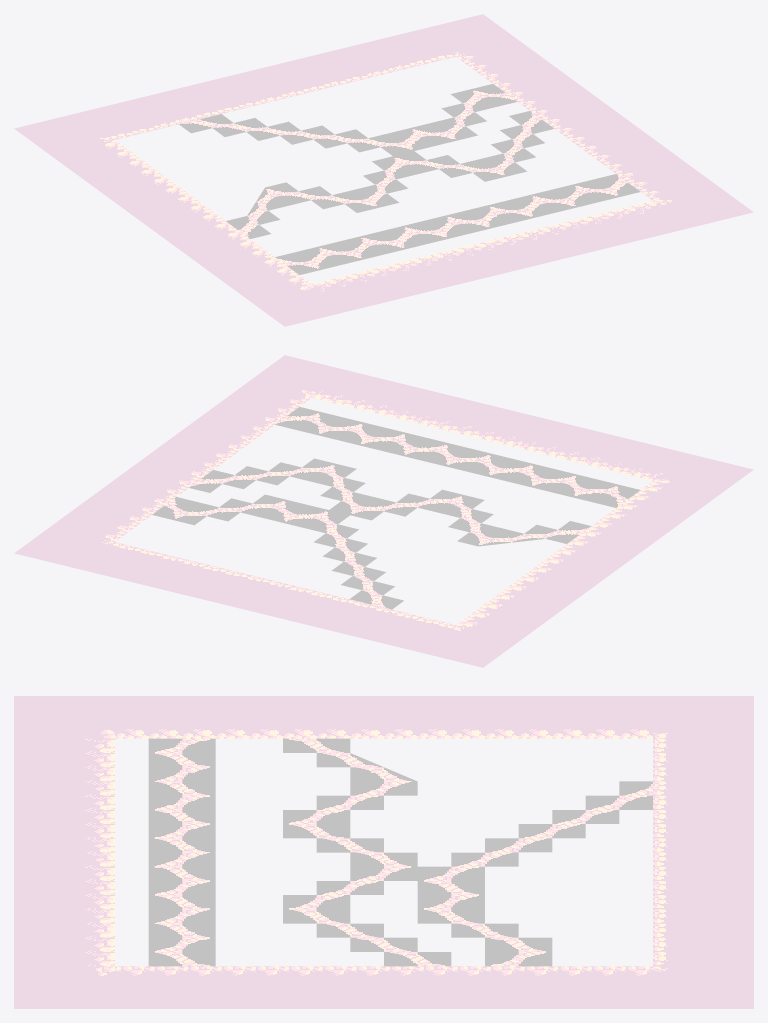
File: Coldth 3.glb
3 views of the same model, one above another, from view 1: azimuth 30°, elevation 25°; view 2: azimuth 150°, elevation 25°; view 3: azimuth 270°, elevation 25° (orthographic). The views are drawn at different scales.
Visible parts, largest first — view 1: Cube; view 2: Cube; view 3: Cube.
Boxes of the visible parts, bbox=[...] form: Cube: bbox=[14, 14, 753, 326]; Cube: bbox=[14, 355, 753, 667]; Cube: bbox=[14, 696, 753, 1008].
Size of the model in its own units: 11 by 0 by 11.
